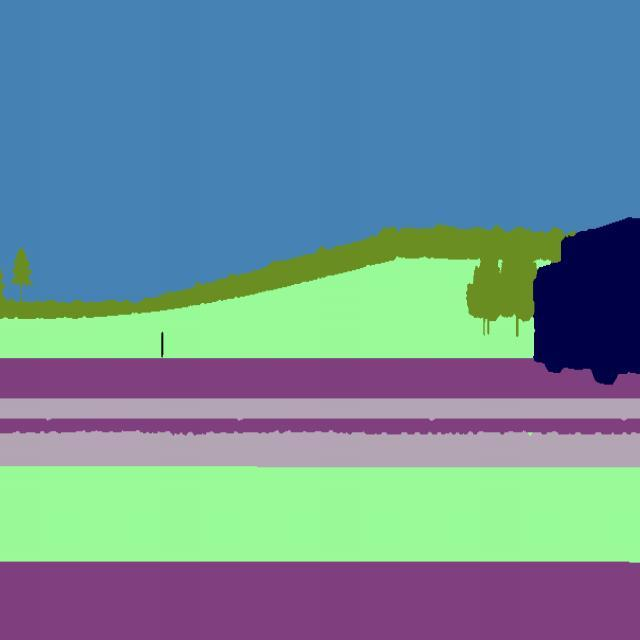safe: (530, 213, 640, 387)
